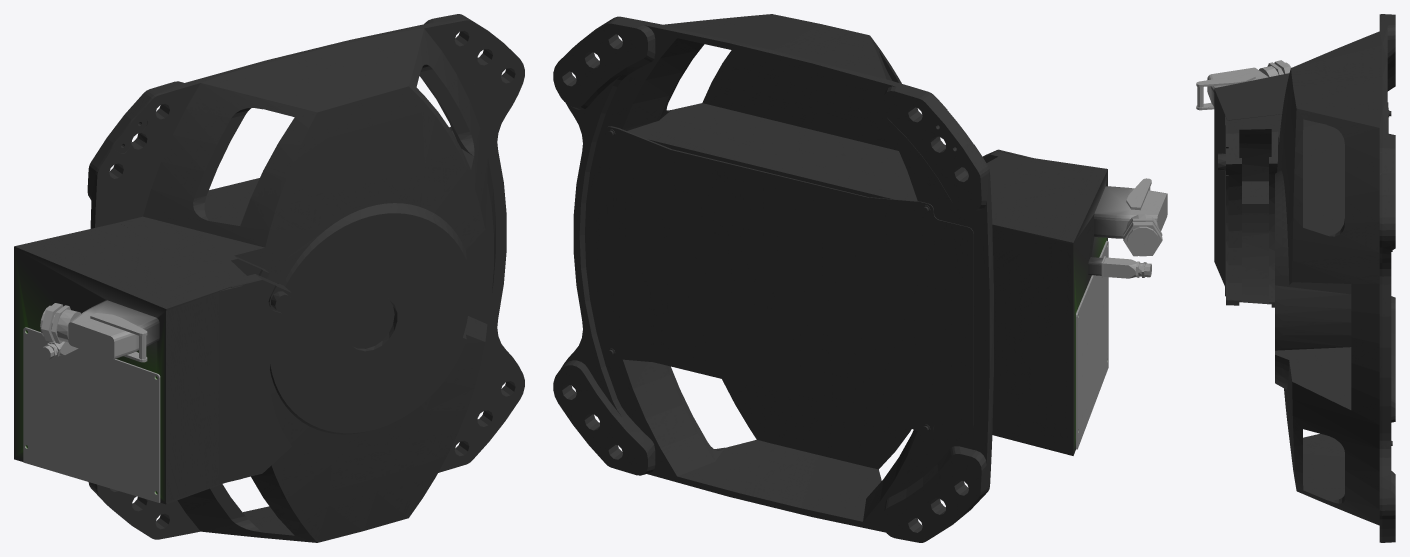
Rendered from Socket.dae.
The picture shows the model from 3 angles, left to right: view 1: azimuth 30°, elevation 25°; view 2: azimuth 150°, elevation 25°; view 3: azimuth 270°, elevation 25°; orthographic projection. The views are drawn at different scales.
Visible parts, largest first — view 1: node; view 2: node; view 3: node.
Boxes of the visible parts, x1=… form: node: x1=14, y1=14, x2=524, y2=542; node: x1=553, y1=14, x2=1167, y2=542; node: x1=1196, y1=14, x2=1395, y2=542.
Size of the model in its own units: 40.81 by 32.68 by 14.67.
Materials: 1 (1 with a texture image).
